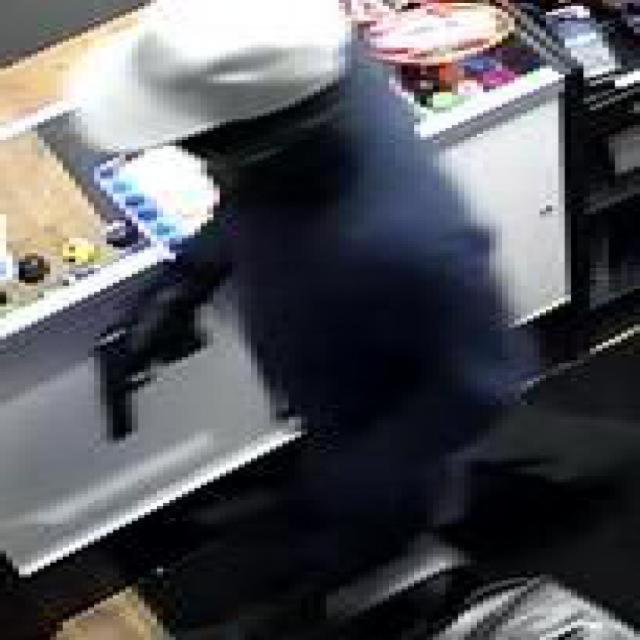pistol: (94, 316, 207, 444)
